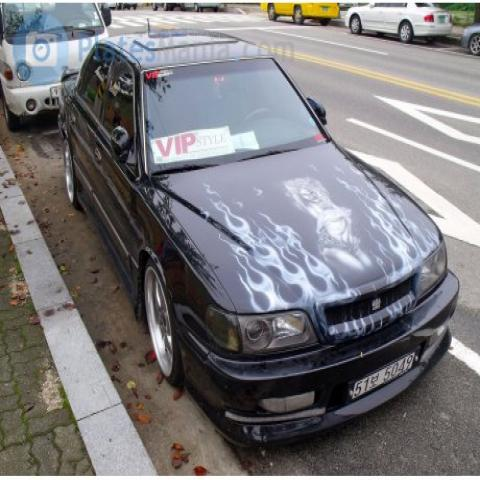LP: (349, 344, 424, 408)
